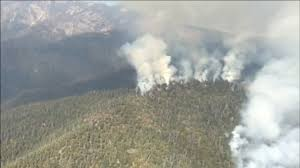smoke: (110, 1, 256, 97), (230, 1, 299, 166)
